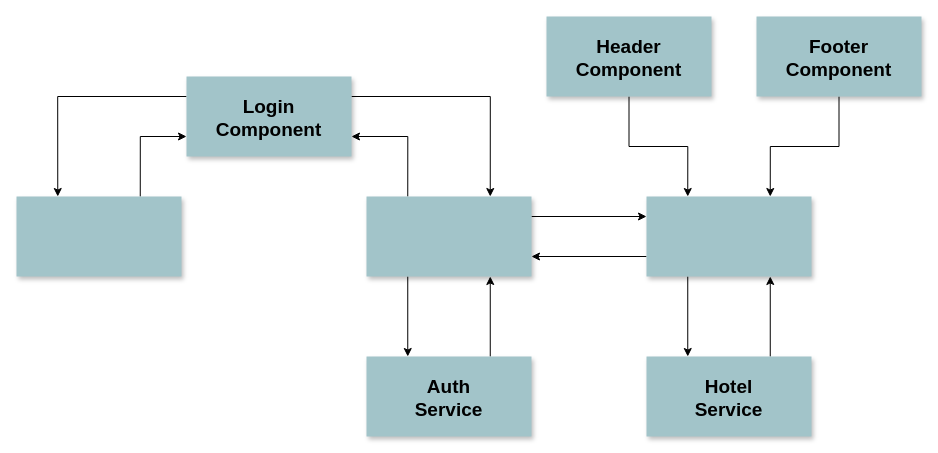
The diagram is 938 pixels wide and 453 high, and some of its shapes have lost their labels. Here are the shapes that lost their labels. From the top down, the centre of each, then its label:
point 99,237: Airline Service
point 449,237: Store Auth
point 729,237: Hotel Component
